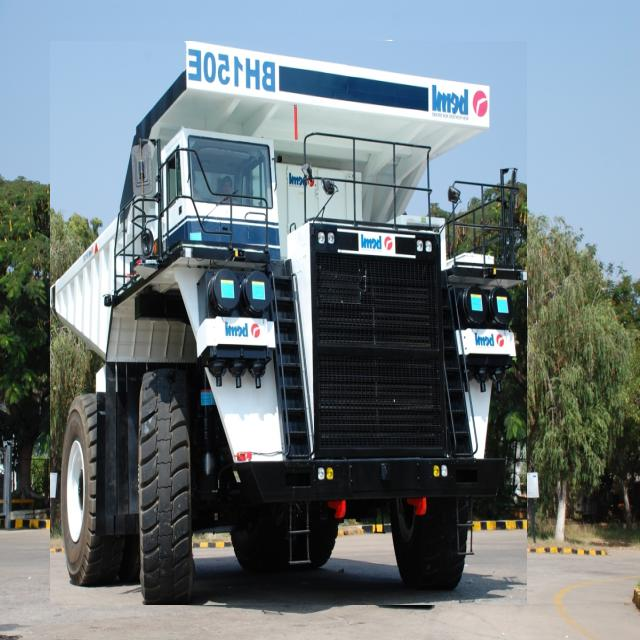truck: (51, 42, 527, 605)
